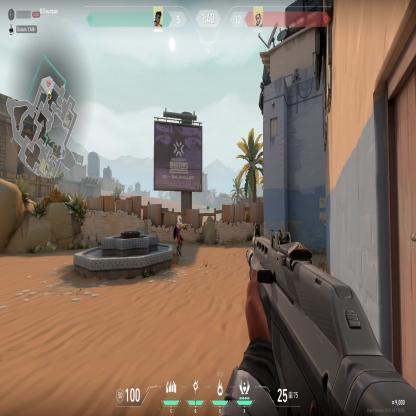enemy: (173, 216, 187, 256)
